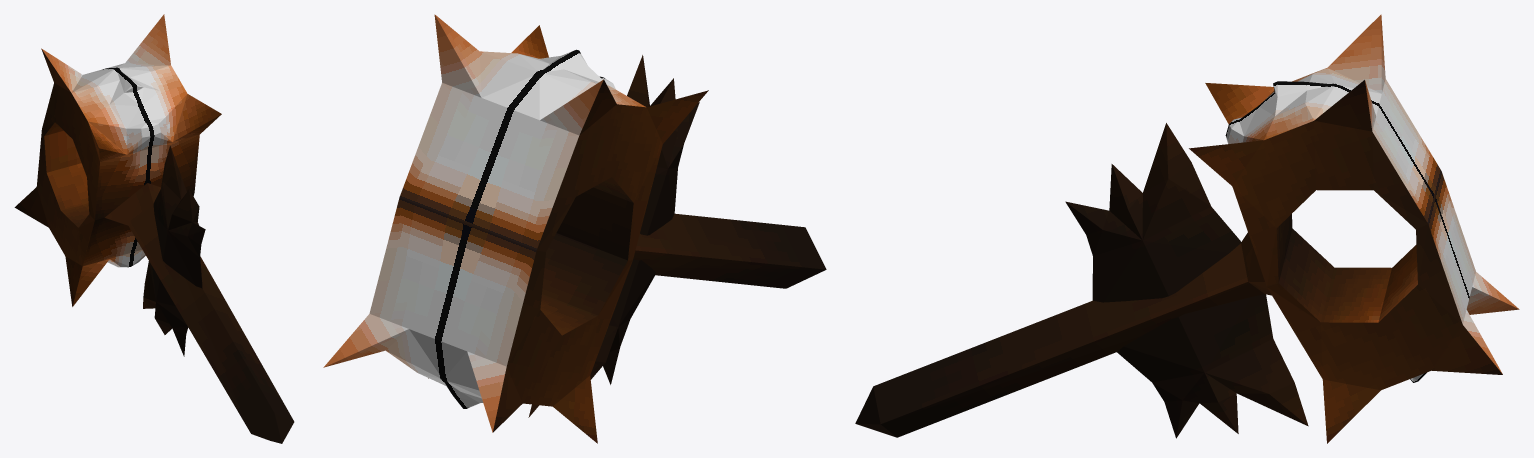
The model's file is tx_knight_feichui_hit_01.obj.
The picture shows the model from 3 angles, left to right: view 1: azimuth 30°, elevation 25°; view 2: azimuth 150°, elevation 25°; view 3: azimuth 270°, elevation 25°; orthographic projection. The views are drawn at different scales.
Visible parts, largest first — view 1: objpolySurface33; view 2: objpolySurface33; view 3: objpolySurface33.
Boxes of the visible parts, bbox=[...] form: objpolySurface33: bbox=[14, 14, 294, 443]; objpolySurface33: bbox=[323, 14, 826, 443]; objpolySurface33: bbox=[855, 14, 1519, 443].
Bounding box in the file's own units: 18.01 × 34.01 × 51.14.
